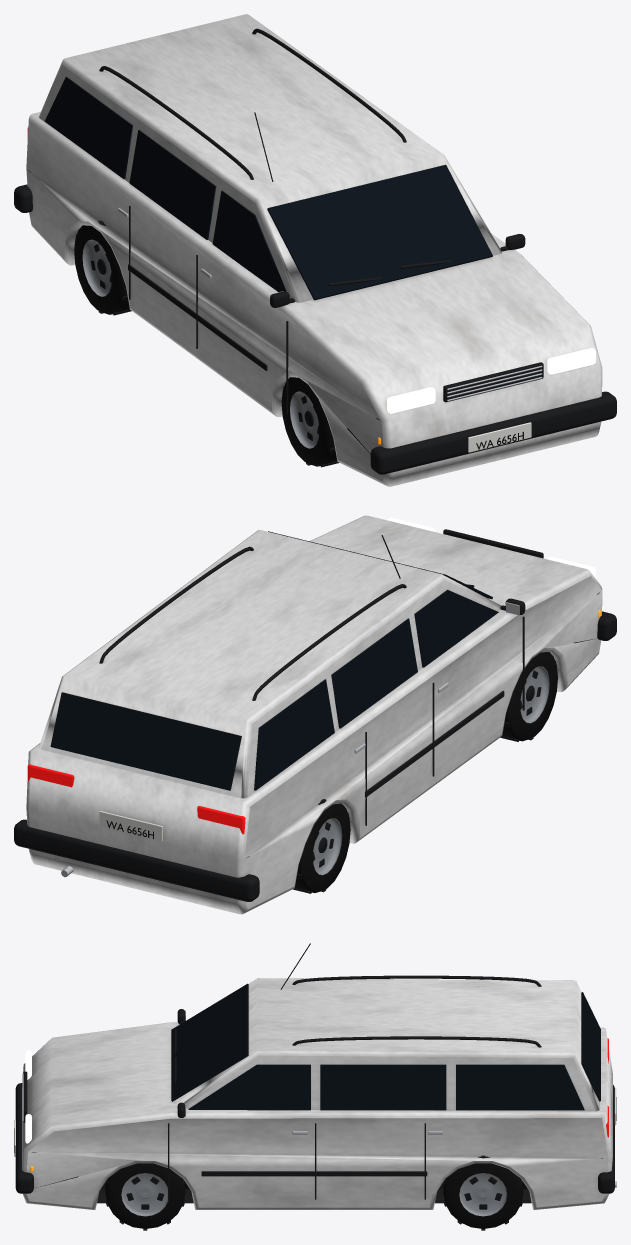
File: auto_kombi.glb
3 views of the same model, one above another, from view 1: azimuth 30°, elevation 25°; view 2: azimuth 150°, elevation 25°; view 3: azimuth 270°, elevation 25° (orthographic). The views are drawn at different scales.
Parts seen in each view (by area): view 1: TintKaroseria, Detale, Kolo3, Kolo1, Reflektor.001, Reflektor; view 2: TintKaroseria, Detale, Kolo3, Kolo1, LampaTyl, LampaTyl.001; view 3: TintKaroseria, Detale, Kolo4, Kolo2.
Part boxes in pixels (bbox=[...]): TintKaroseria: bbox=[26, 14, 602, 486]; Detale: bbox=[14, 28, 616, 474]; Kolo3: bbox=[74, 220, 131, 315]; Kolo1: bbox=[281, 377, 339, 467]; Reflektor.001: bbox=[547, 348, 595, 374]; Reflektor: bbox=[387, 387, 435, 413]; TintKaroseria: bbox=[26, 515, 602, 914]; Detale: bbox=[14, 529, 616, 901]; Kolo3: bbox=[293, 799, 350, 893]; Kolo1: bbox=[500, 652, 557, 741]; LampaTyl: bbox=[197, 806, 245, 834]; LampaTyl.001: bbox=[27, 764, 74, 787]; TintKaroseria: bbox=[22, 978, 612, 1209]; Detale: bbox=[14, 943, 616, 1203]; Kolo4: bbox=[443, 1155, 523, 1230]; Kolo2: bbox=[105, 1163, 185, 1230].
Size of the model in its own units: 1.85 by 1.86 by 4.68.
Materials: 12 (1 with a texture image).
